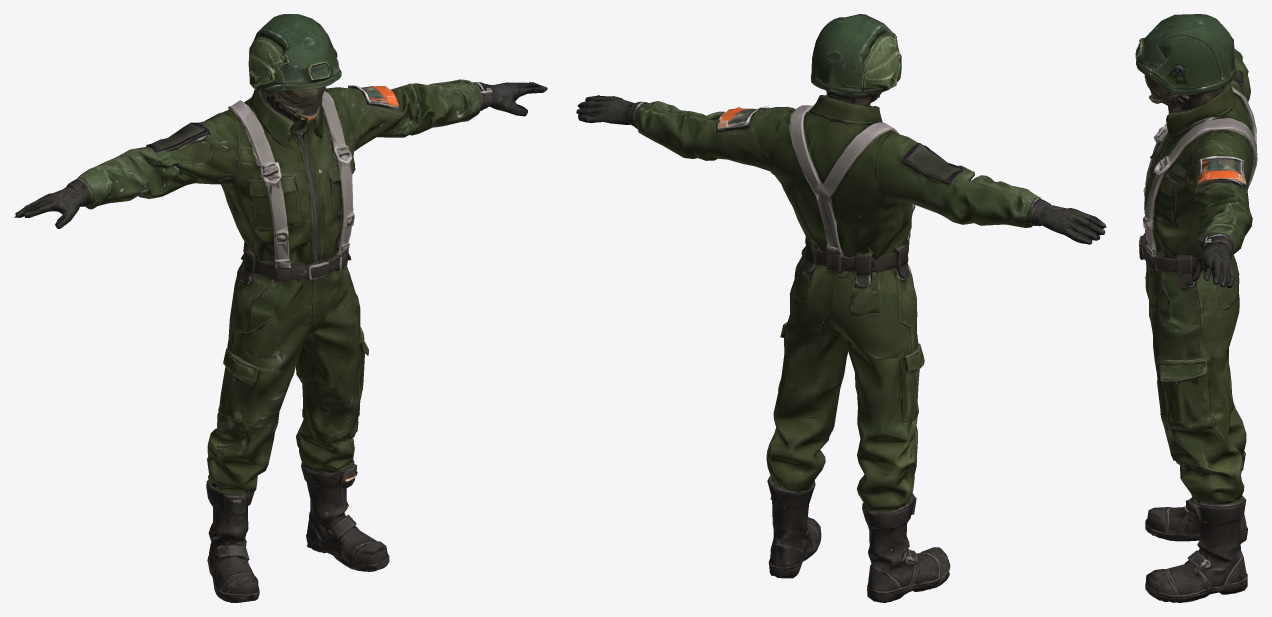
File: soldier-rifle.glb
The picture shows the model from 3 angles, left to right: view 1: azimuth 30°, elevation 25°; view 2: azimuth 150°, elevation 25°; view 3: azimuth 270°, elevation 25°; orthographic projection.
Bounding box in the file's own units: 0.9764 × 0.9793 × 0.1973.
1 material, 1 textured.
